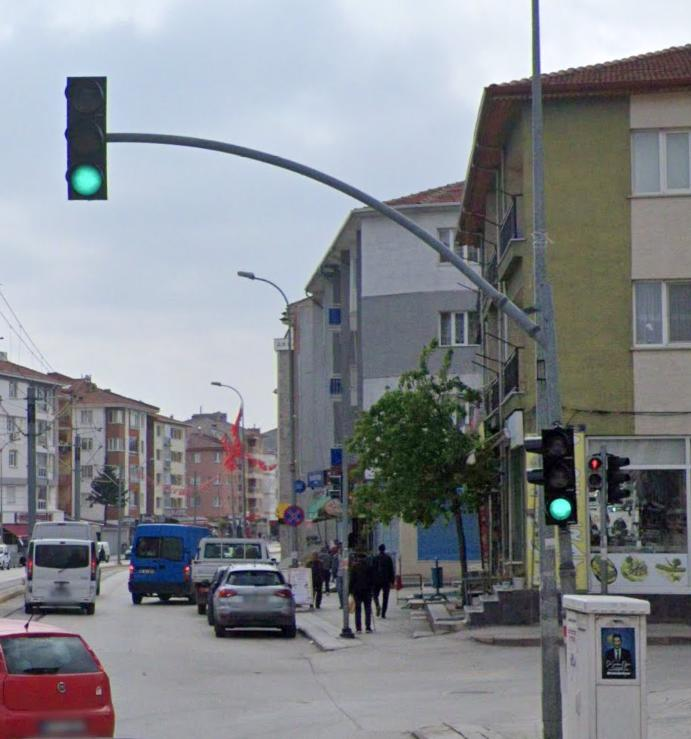greenlight: (64, 75, 110, 203), (541, 426, 579, 524)
